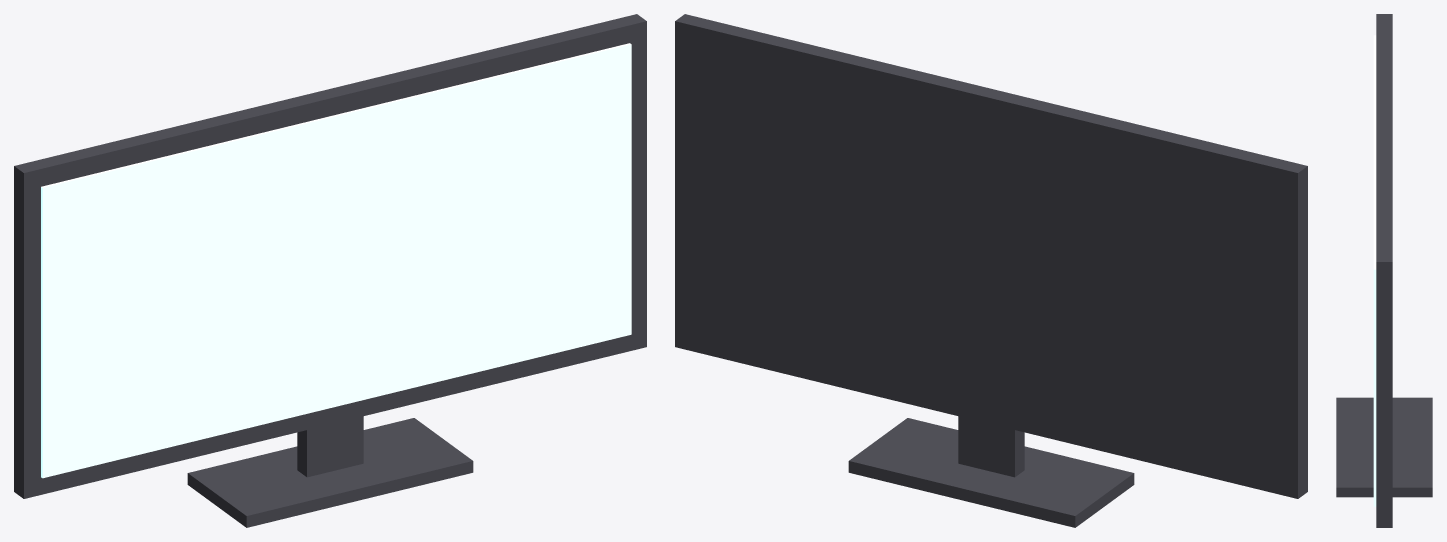
The model's file is bb_set_tv.fbx.
3 views of the same model, side by side, from view 1: azimuth 30°, elevation 25°; view 2: azimuth 150°, elevation 25°; view 3: azimuth 270°, elevation 25° (orthographic). The views are drawn at different scales.
Visible parts, largest first — view 1: bb_set_tv; view 2: bb_set_tv; view 3: bb_set_tv.
Boxes of the visible parts, box(x1,y1,x2,y2) form: bb_set_tv: box(14, 14, 646, 527); bb_set_tv: box(675, 14, 1307, 527); bb_set_tv: box(1336, 14, 1432, 527).
Bounding box in the file's own units: 1.1 × 0.65 × 0.18.
